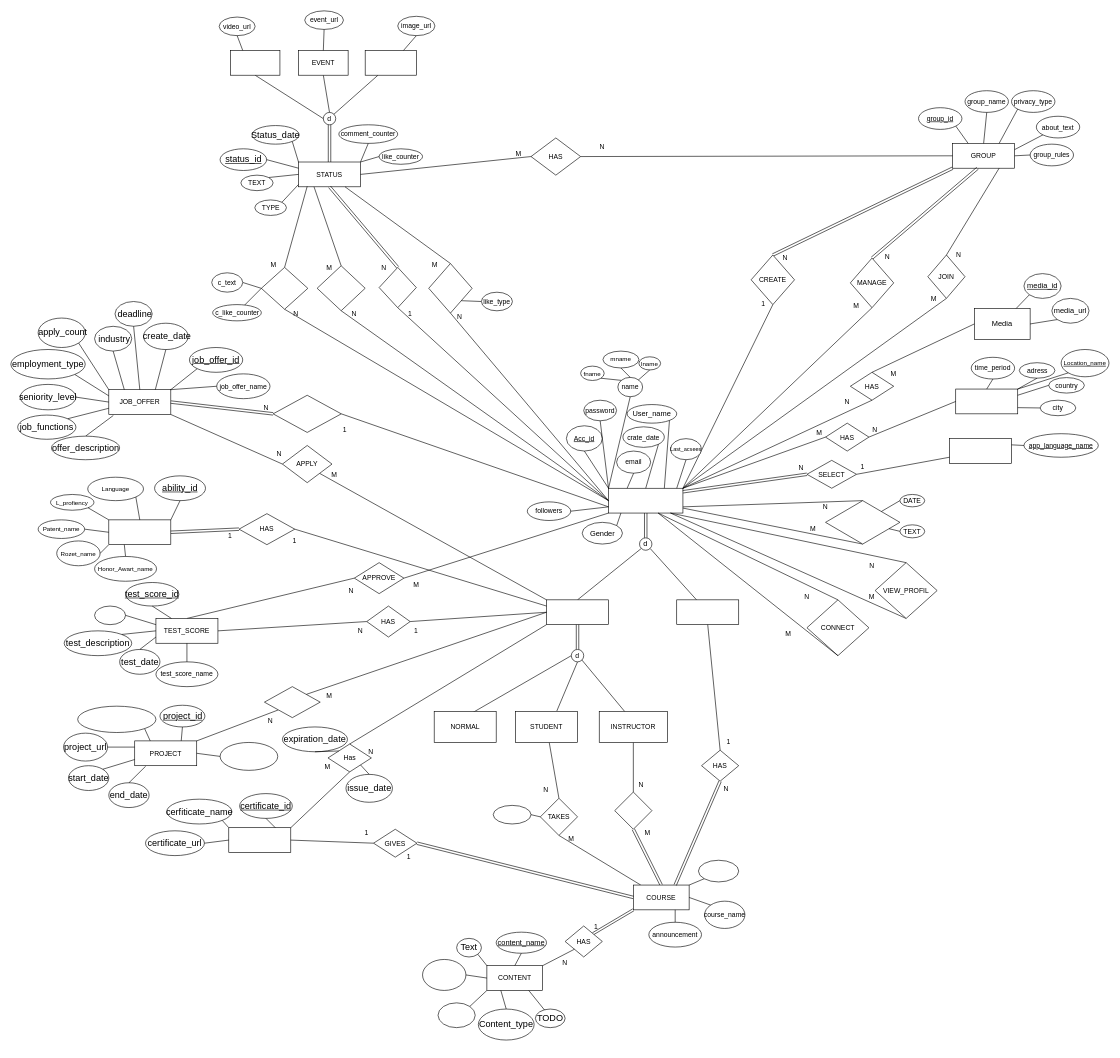
The diagram is 1120 pixels wide and 1058 high, and some of its shapes have lost their labels. Here are the shapes that lost their labels. From the top down, the box of each, then its label:
(230, 50, 280, 75): VIDEO
(365, 50, 416, 75): IMAGE
(261, 267, 308, 309): COMMENT
(317, 265, 365, 311): BOOKMARK
(379, 267, 416, 308): SHARE
(428, 263, 472, 313): LIKE
(272, 395, 341, 432): PUBLISH_OFFER
(955, 388, 1018, 414): LOCATION
(949, 438, 1012, 463): APP_LANGUAGE
(608, 488, 683, 513): Account
(108, 519, 171, 545): ABILITIY
(825, 500, 900, 544): MESSAGE
(94, 605, 126, 625): score
(546, 599, 609, 625): User
(676, 599, 739, 625): Company
(77, 706, 156, 733): project_description
(264, 686, 320, 718): MAKES
(219, 742, 278, 770): project_name
(493, 805, 531, 824): note
(614, 791, 652, 829): TEACH
(228, 827, 291, 852): Certificate
(698, 860, 739, 882): course_id
(422, 959, 466, 990): Document
(437, 1002, 475, 1028): End time
